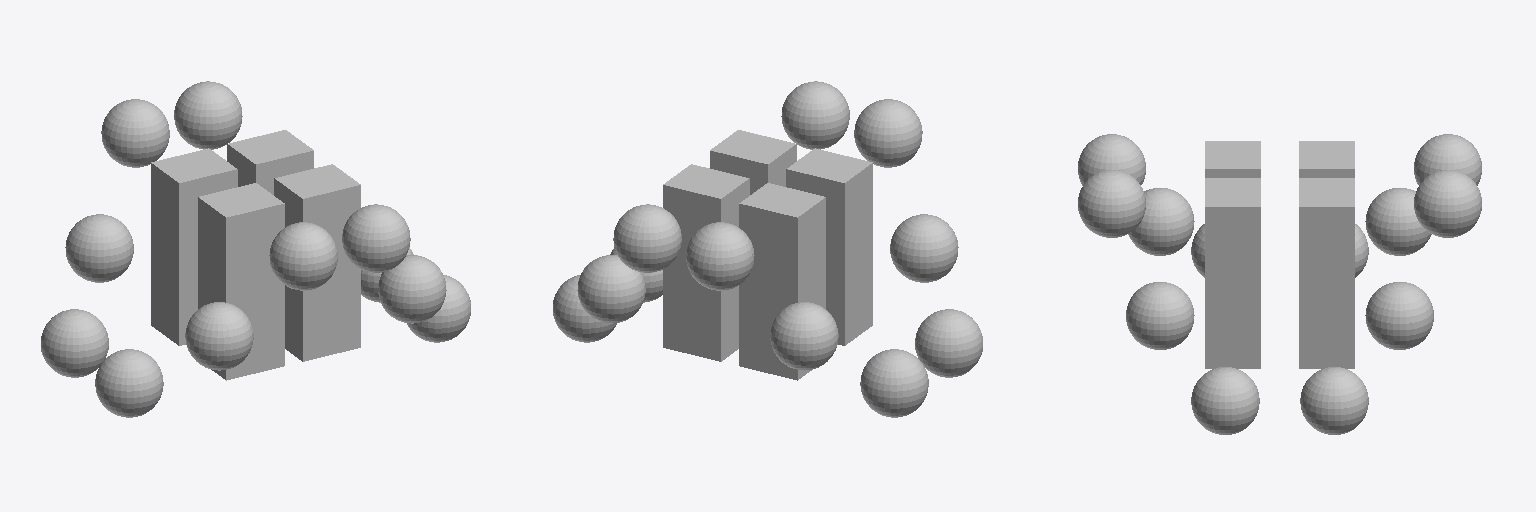
Rendered from spheres.obj.
3 renders of one model, left to right at view 1: azimuth 30°, elevation 25°; view 2: azimuth 150°, elevation 25°; view 3: azimuth 270°, elevation 25°, orthographic.
Parts seen in each view (by area): view 1: Sphere; view 2: Sphere; view 3: Sphere.
Boxes of the visible parts, x1=… form: Sphere: x1=41, y1=81, x2=470, y2=417; Sphere: x1=553, y1=81, x2=982, y2=417; Sphere: x1=1078, y1=134, x2=1481, y2=434.
Bounding box in the file's own units: 1.64 × 0.8607 × 1.56.